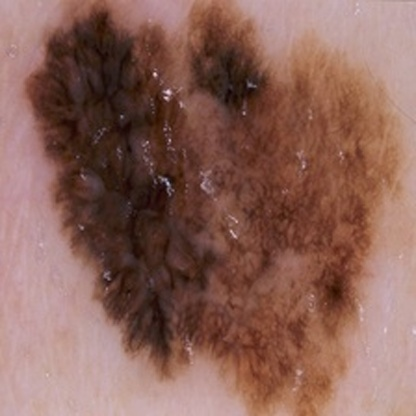malignant: (69, 28, 373, 371)
